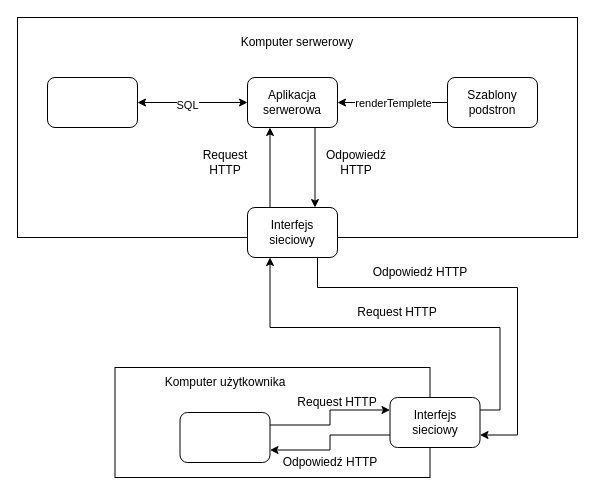
This 595x495 diagram has some shape labels left out. Here are the shapes that lost their labels. From the top down, the centre of each, then its label:
(x=92, y=102): Baza danych
(x=224, y=437): Przeglądarka internetowa
